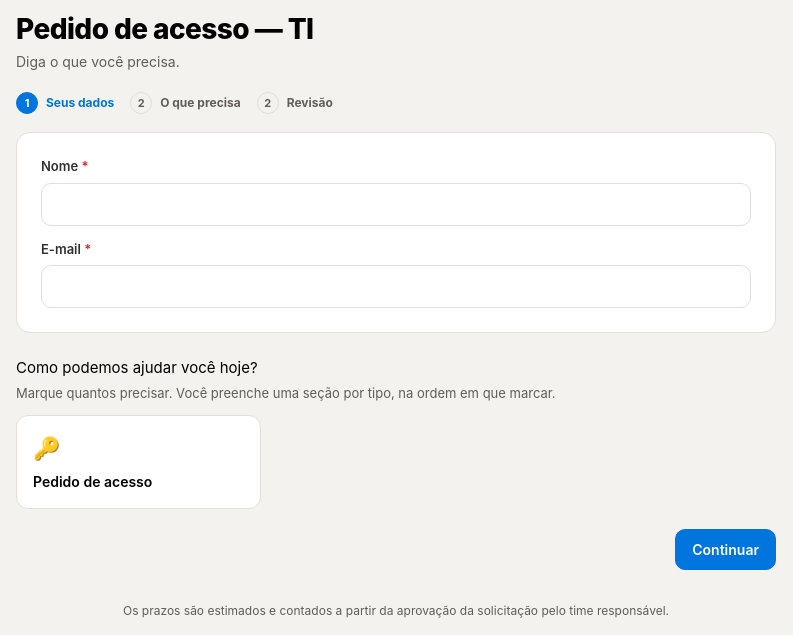
Test case: a etapa de identificação, montada de verdade › ⚠️ a revisão não deixa separador pendurado sem telefone
The width and height of the screenshot is (793, 635).
Type "Maria do Polo" into the field labelled "Nome *" at point(396, 204), box [41,183,751,226]
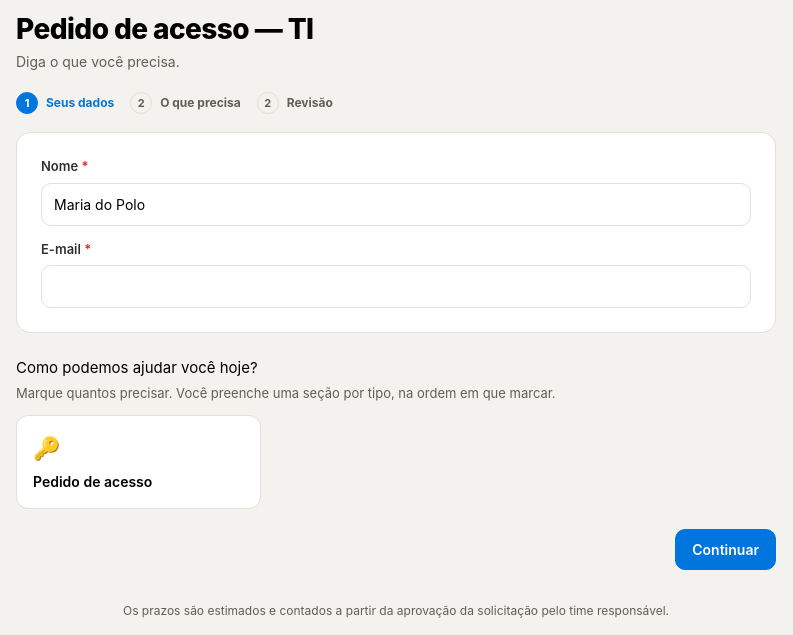
Type "maria@polo.ex" into the field labelled "E-mail *" at point(396, 287), box [41,265,751,308]
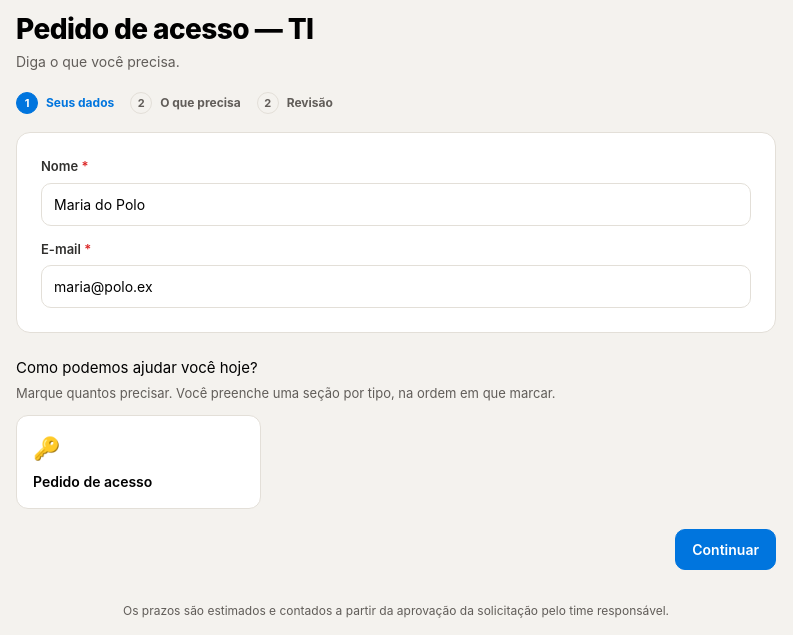
Click the text "Pedido de acesso" at point(93, 482), box [33,471,152,492]
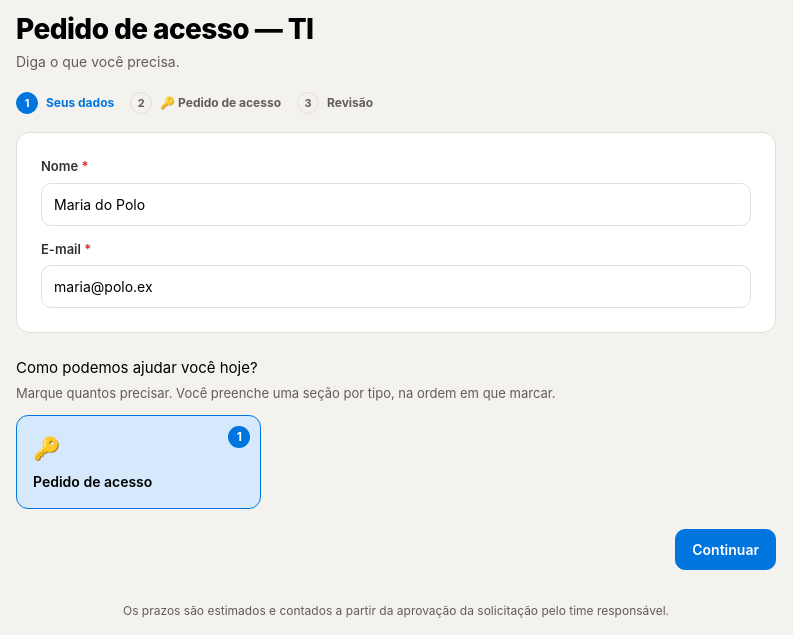
Click the button "Continuar" at point(726, 550), box [675,529,776,570]
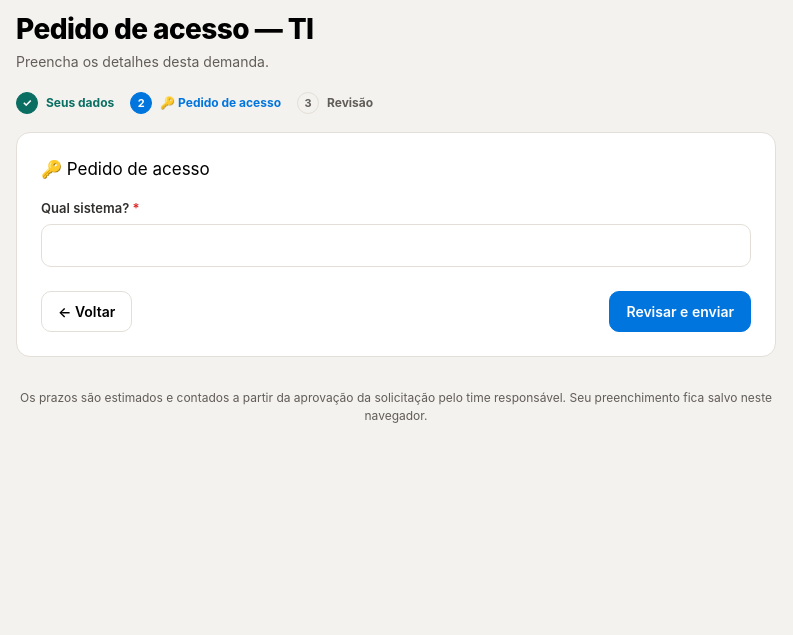
Type "o CRM" into the field labelled "Qual sistema? *" at point(396, 246), box [41,224,751,267]
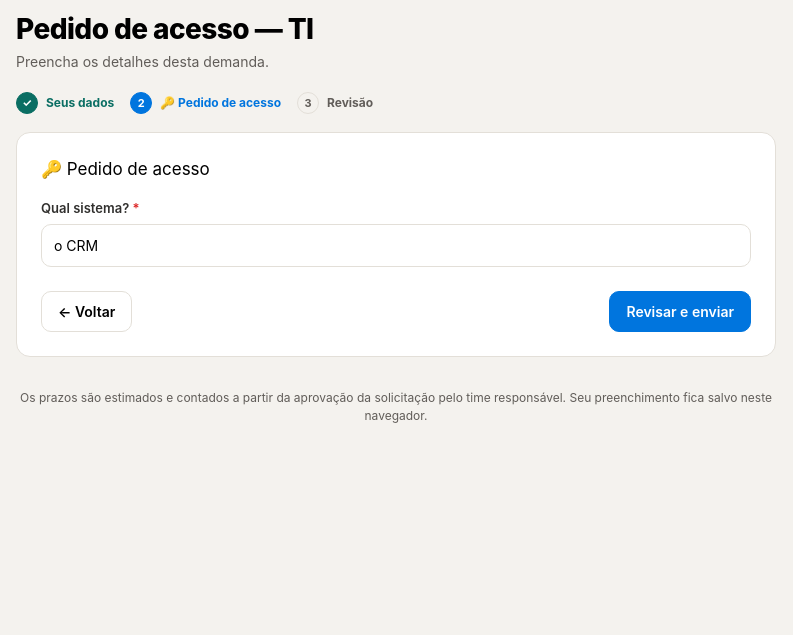
Click the button "Revisar e enviar" at point(680, 312), box [609,291,751,332]
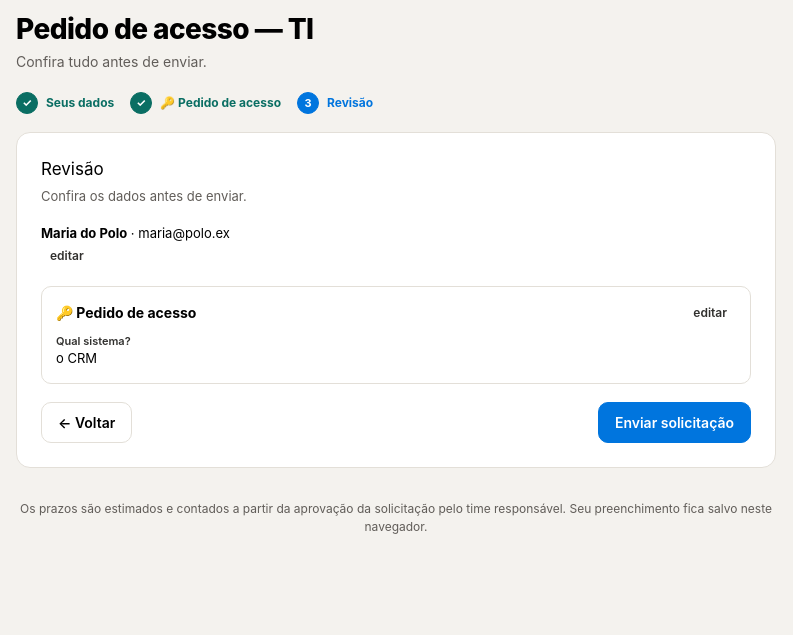
expect the button "Enviar solicitação" is shown: met, box [598,402,751,443]
